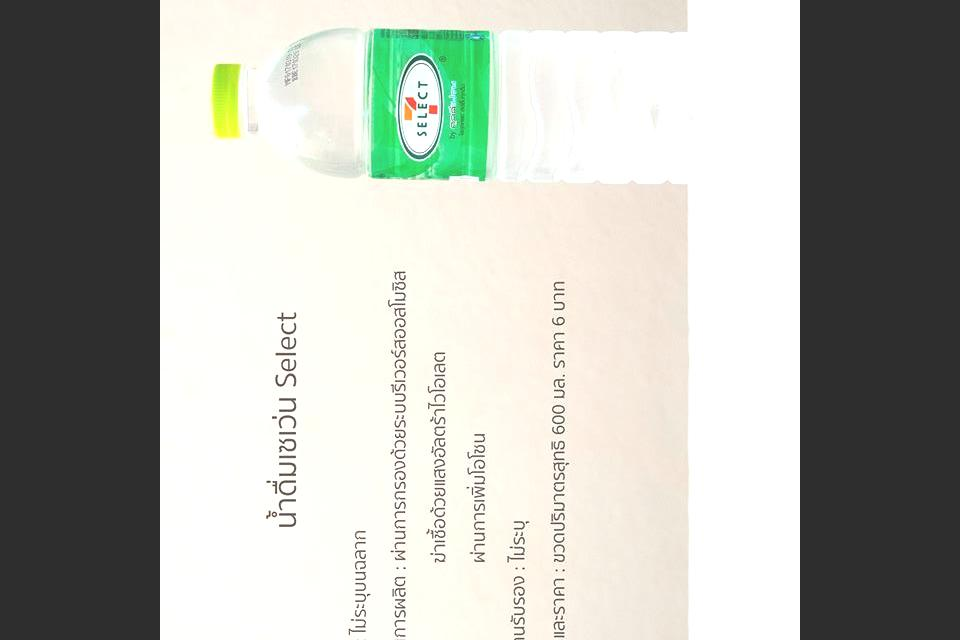bottle: (205, 20, 773, 186)
